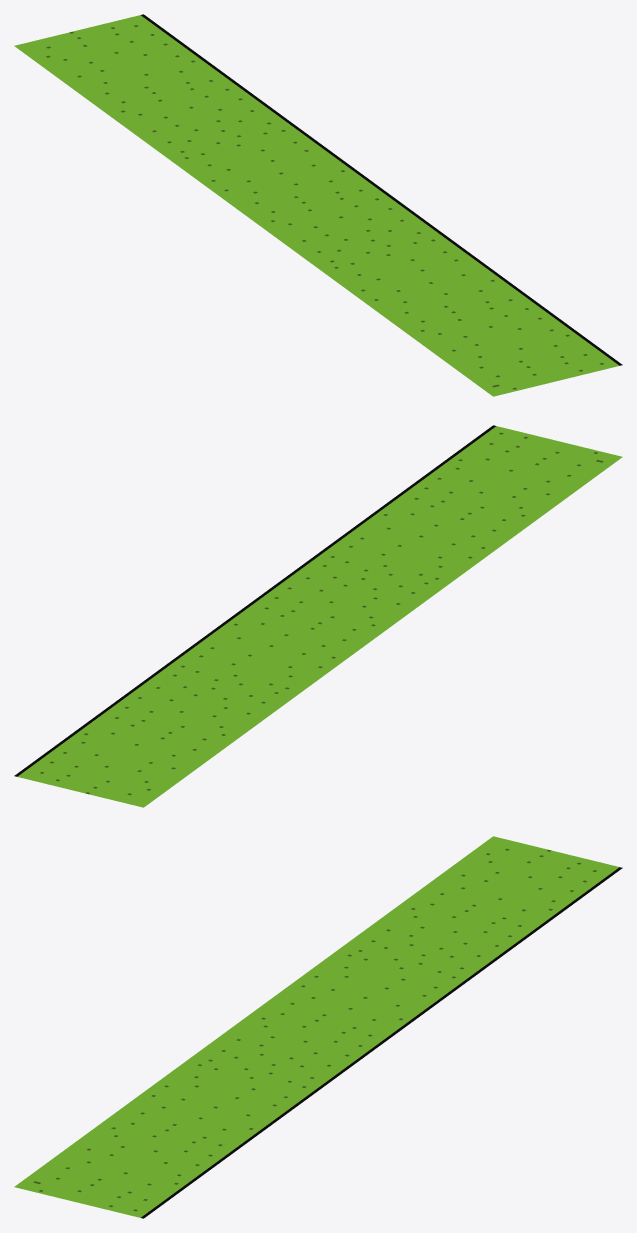
The model's file is ground2.obj.
3 renders of one model, top to bottom at view 1: azimuth 30°, elevation 25°; view 2: azimuth 150°, elevation 25°; view 3: azimuth 330°, elevation 25°, orthographic.
Visible parts, largest first — view 1: ObjObject; view 2: ObjObject; view 3: ObjObject.
Part boxes in pixels (box(x1,y1,x2,y2)): ObjObject: box(14, 14, 622, 396); ObjObject: box(14, 425, 622, 807); ObjObject: box(14, 836, 622, 1218).
Bounding box in the file's own units: 4 × 3.81e-06 × 25.6.
